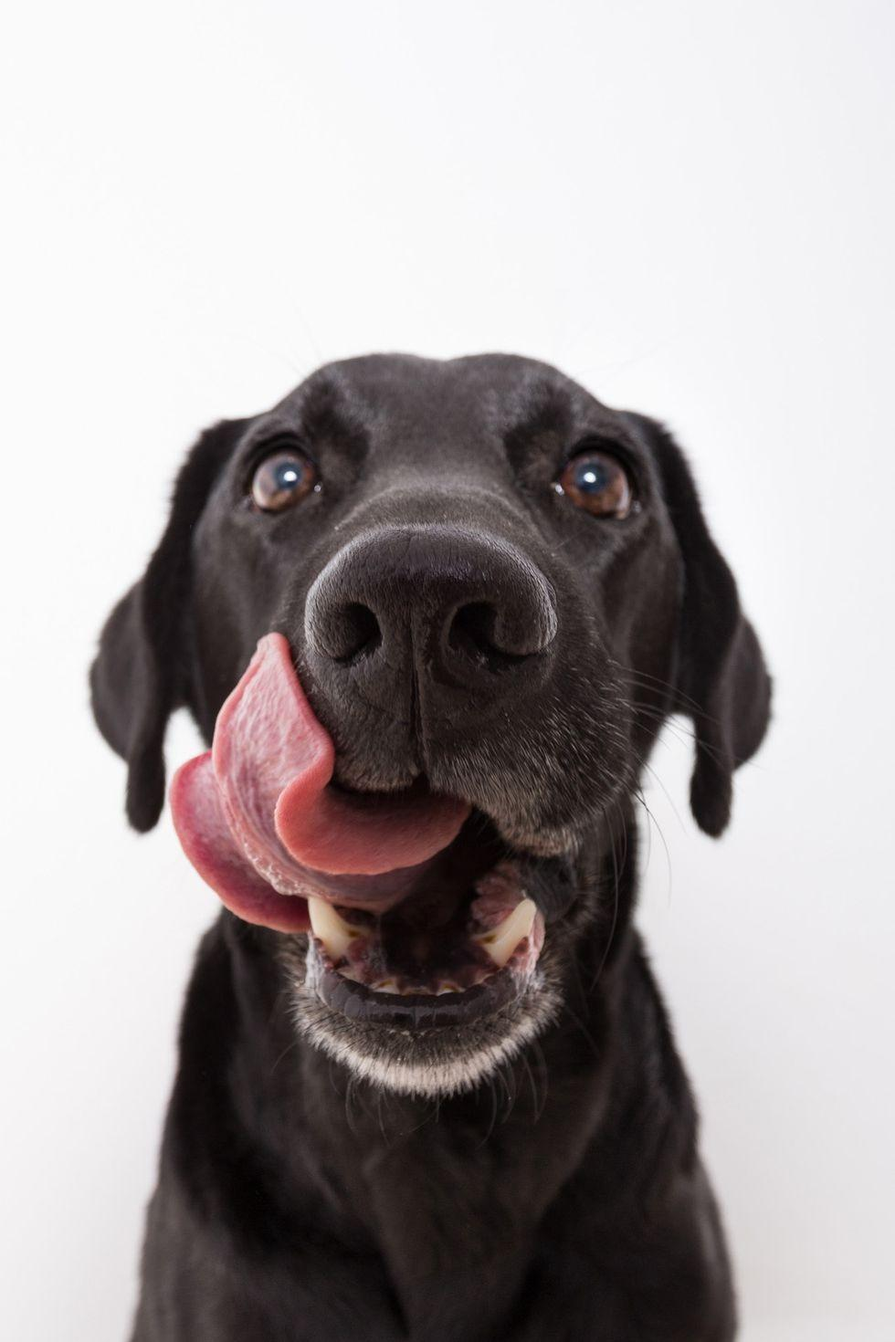adult_dog: (78, 348, 781, 1342)
